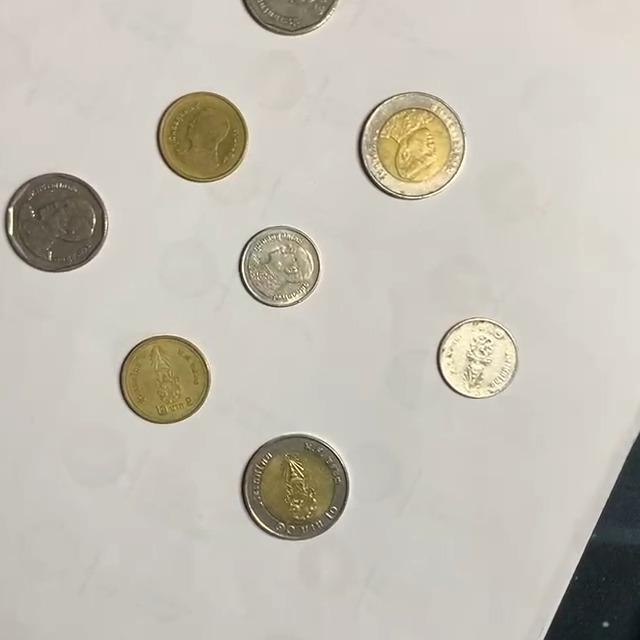1-baht: (437, 317, 521, 400), (239, 226, 322, 308)
10-baht: (361, 92, 468, 199), (242, 435, 349, 541)
2-baht: (157, 91, 249, 182), (119, 335, 212, 425)
5-baht: (4, 172, 110, 273), (239, 0, 342, 37)
